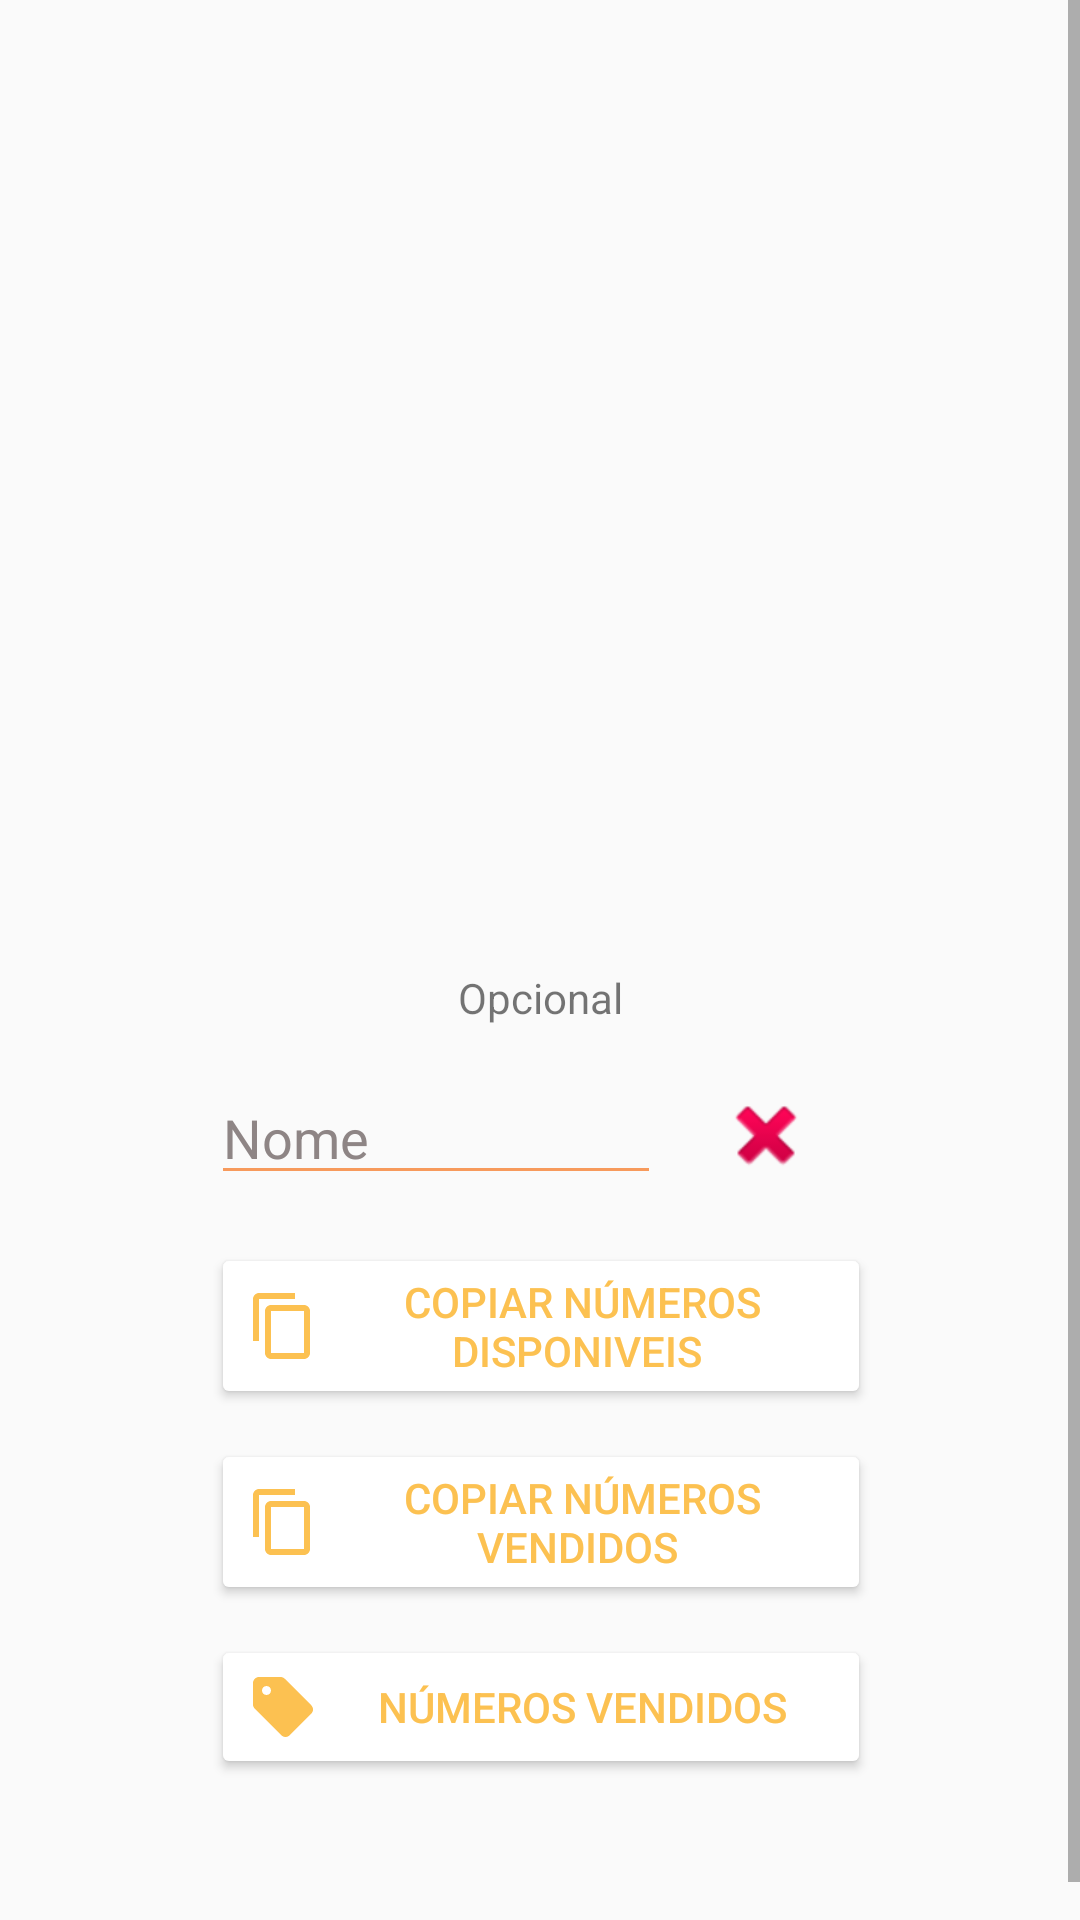

Locate icon controls on the screen. Image size 1080 x 1920, boxes as (x1, y1, x2, y2).
delete: (735, 1106, 797, 1165)
